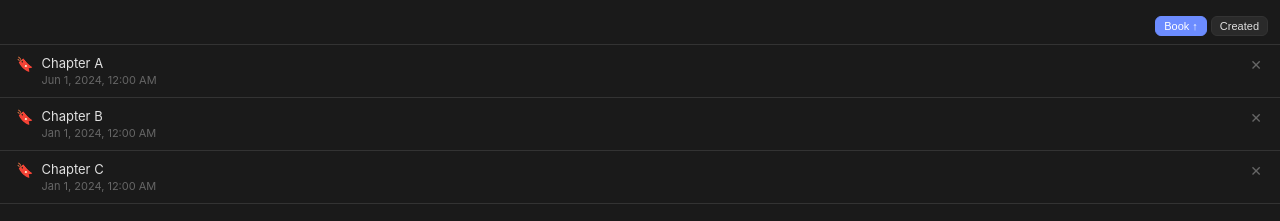
BookmarkSidebar — date sort › shows ↑ on Date added button after first click
This screenshot has width=1280, height=221.
What coordinates should you click on to do the following:
click the button titled "Sort by date added"
I would click on:
 (1239, 26)
Its box is [1211, 16, 1268, 36].
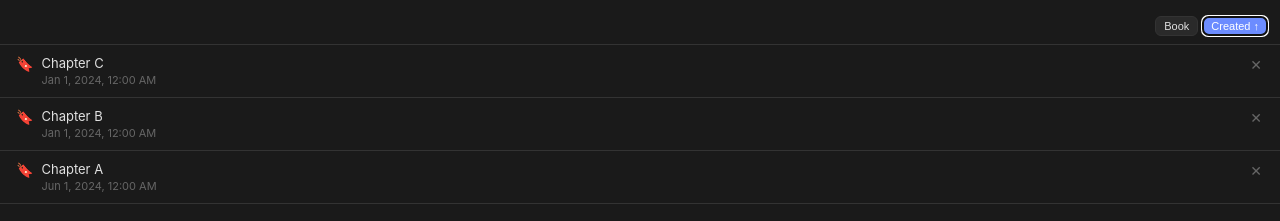
Check: the button titled "Sort by date added" shows "↑", box [1202, 16, 1268, 36]
